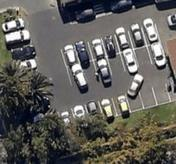parkingspot: (56, 80, 172, 132), (1, 15, 54, 118), (59, 19, 162, 68), (65, 41, 168, 89)
